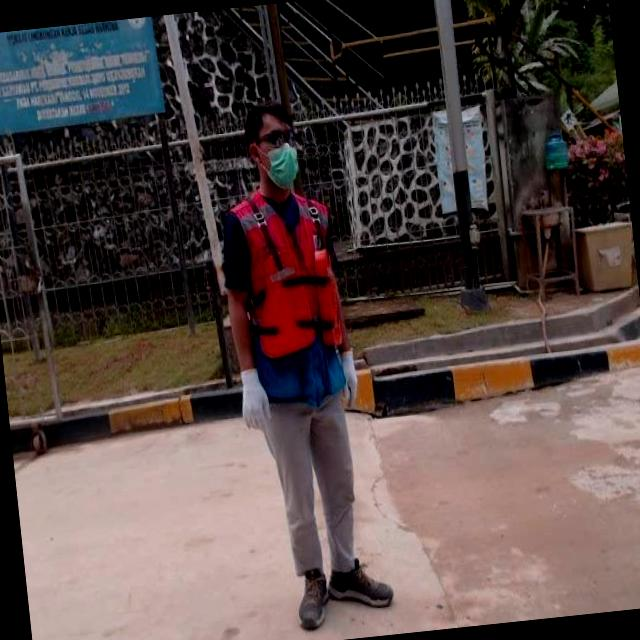vest: (225, 186, 348, 406)
